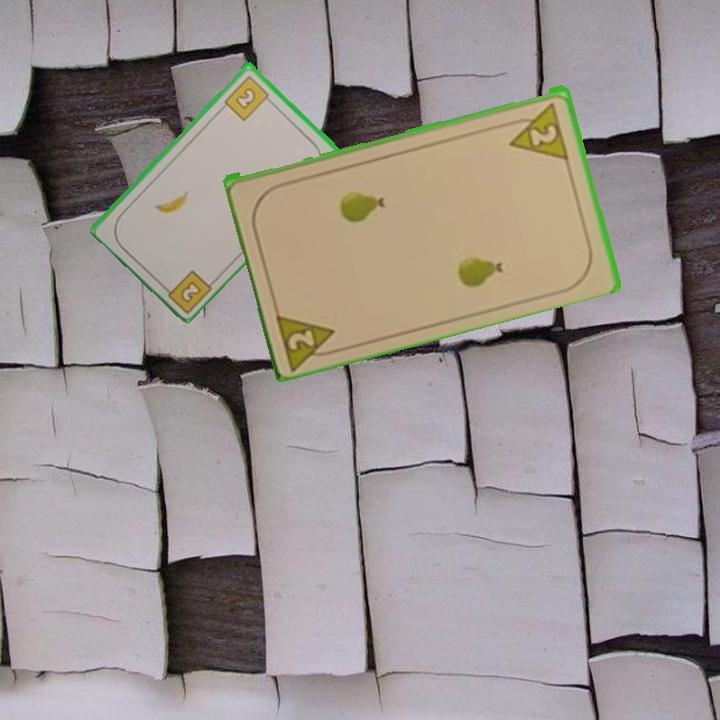2b: (220, 72, 275, 123), (159, 266, 215, 314)
2p: (272, 306, 344, 371), (502, 98, 572, 161)
